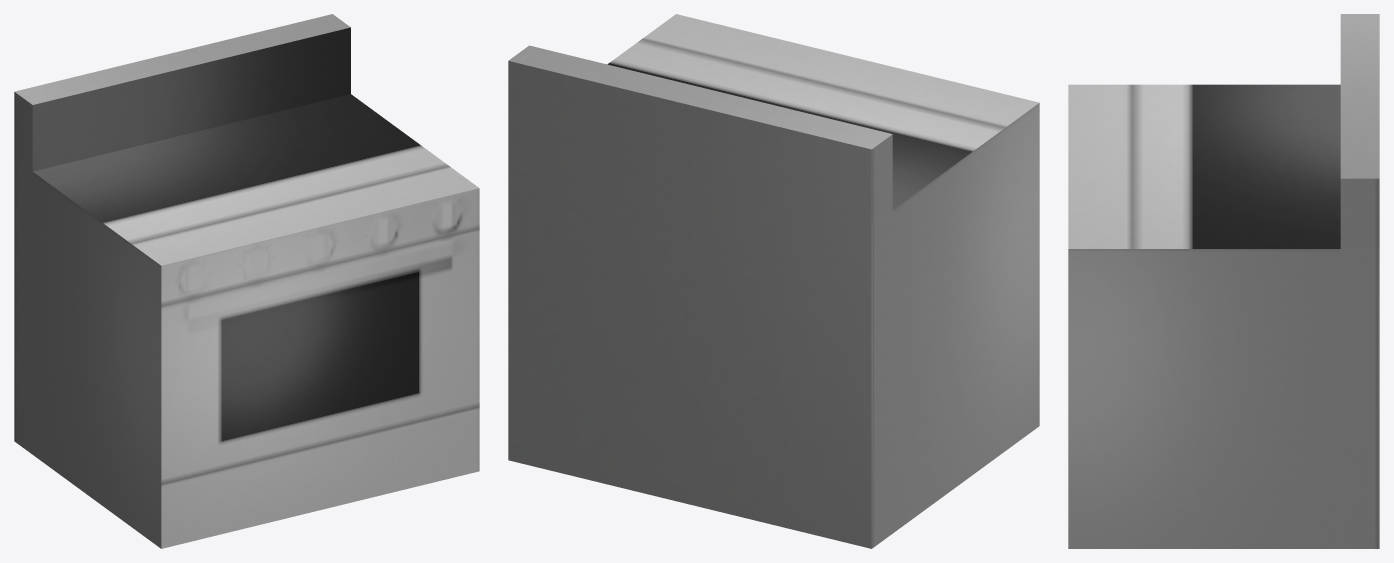
The model's file is Oven.fbx.
3 views of the same model, side by side, from view 1: azimuth 30°, elevation 25°; view 2: azimuth 150°, elevation 25°; view 3: azimuth 270°, elevation 25° (orthographic). The views are drawn at different scales.
Visible parts, largest first — view 1: Cube.039; view 2: Cube.039; view 3: Cube.039.
Boxes of the visible parts, x1=… form: Cube.039: x1=14, y1=14, x2=479, y2=548; Cube.039: x1=508, y1=14, x2=1039, y2=548; Cube.039: x1=1068, y1=14, x2=1379, y2=548.
Bounding box in the file's own units: 100 × 105 × 80.
2 materials, 2 textured.
